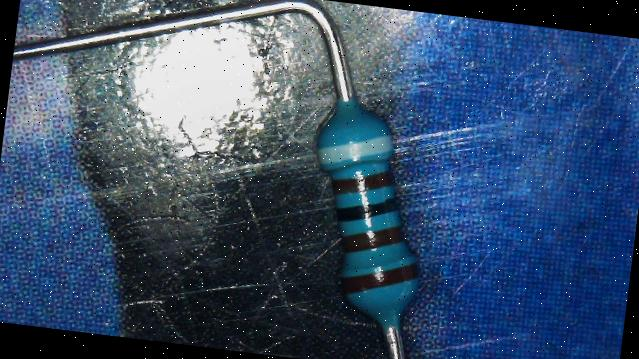black: (334, 189, 399, 227)
brown: (340, 253, 421, 301), (340, 218, 405, 258), (330, 163, 394, 200)
resistor: (289, 88, 462, 330)
white: (322, 132, 390, 162)
